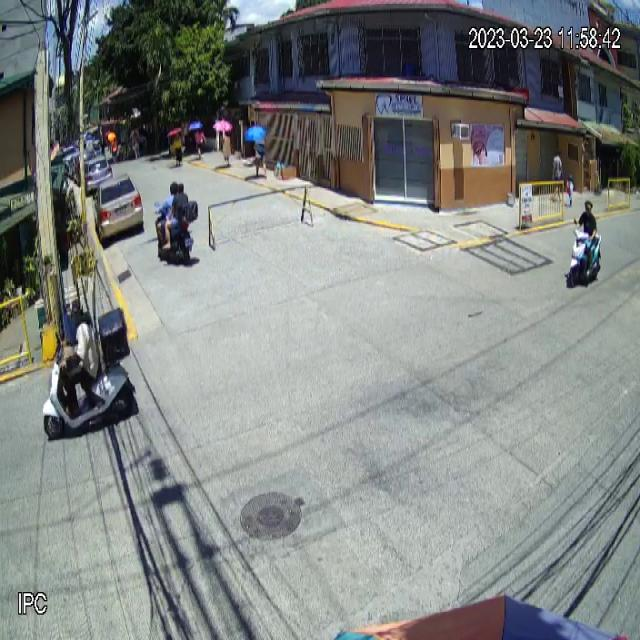Motorcycle: (46, 313, 134, 441), (565, 229, 604, 286)
